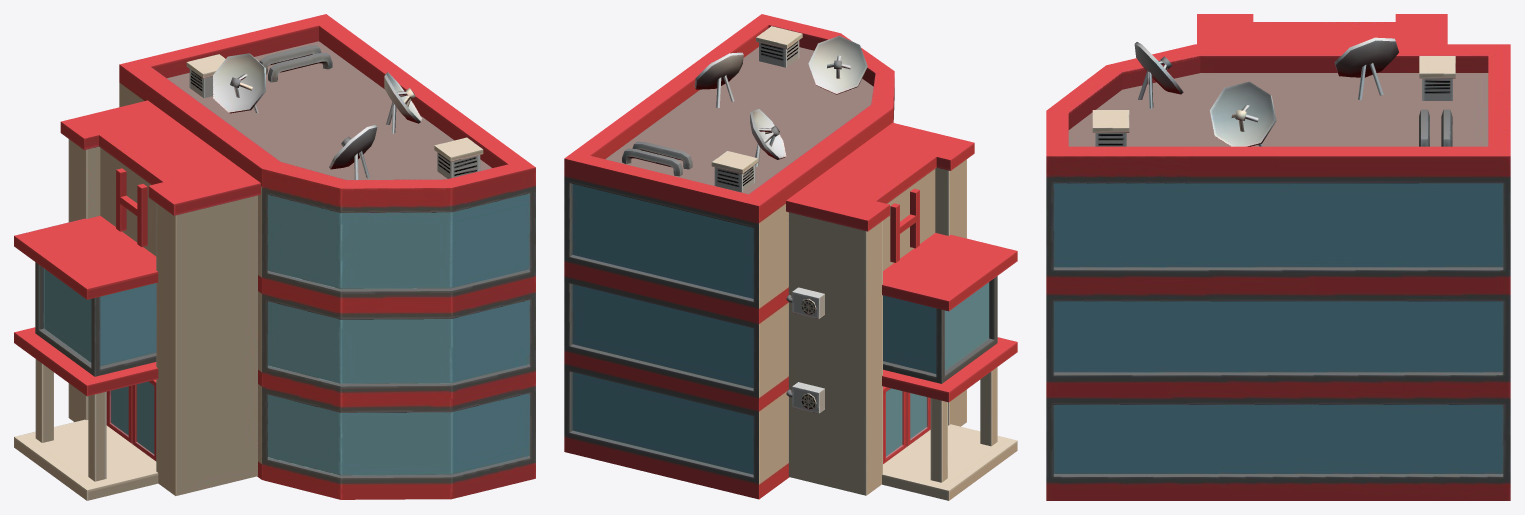
File: Hotel.glb
3 renders of one model, left to right at view 1: azimuth 30°, elevation 25°; view 2: azimuth 150°, elevation 25°; view 3: azimuth 270°, elevation 25°, orthographic. The views are drawn at different scales.
Visible parts, largest first — view 1: Plane001; view 2: Plane001; view 3: Plane001.
Boxes of the visible parts, <box> form: Plane001: <box>14,14,535,500</box>; Plane001: <box>564,14,1017,500</box>; Plane001: <box>1046,14,1510,500</box>.
Bounding box in the file's own units: 5.13 × 4.77 × 5.17.
1 material, 1 textured.
